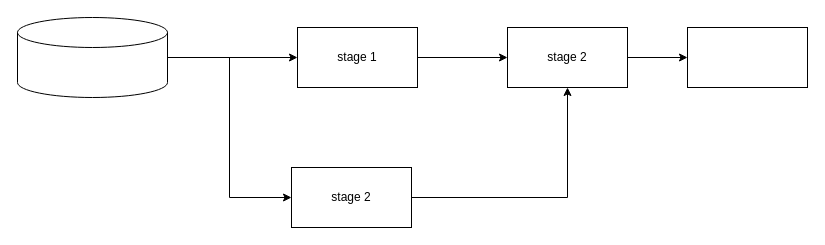
Some shapes in this 825 by 245 pixel diagram are drawn without their labels. The box of each missing label's shape, as (x1, y1, x2, y2) in pixels:
normalized data: (16, 16, 168, 98)
terminal stage: (686, 26, 808, 88)
